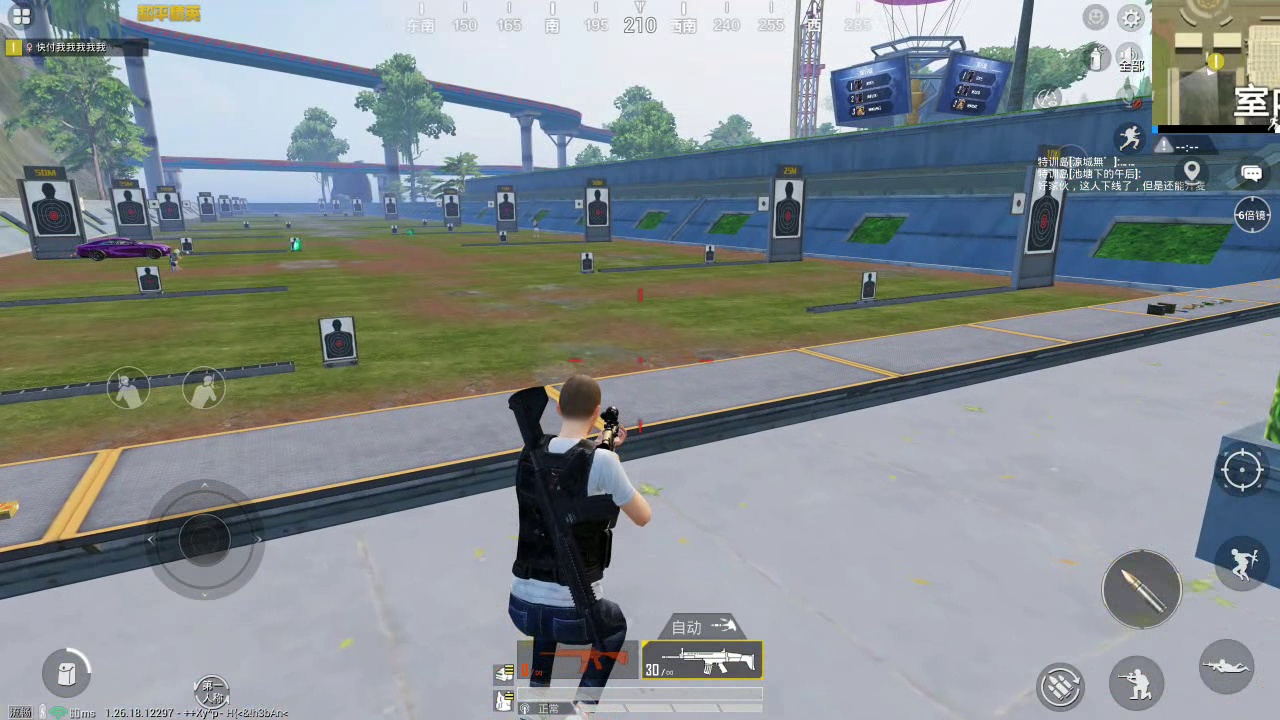enemy: (169, 249, 179, 269)
